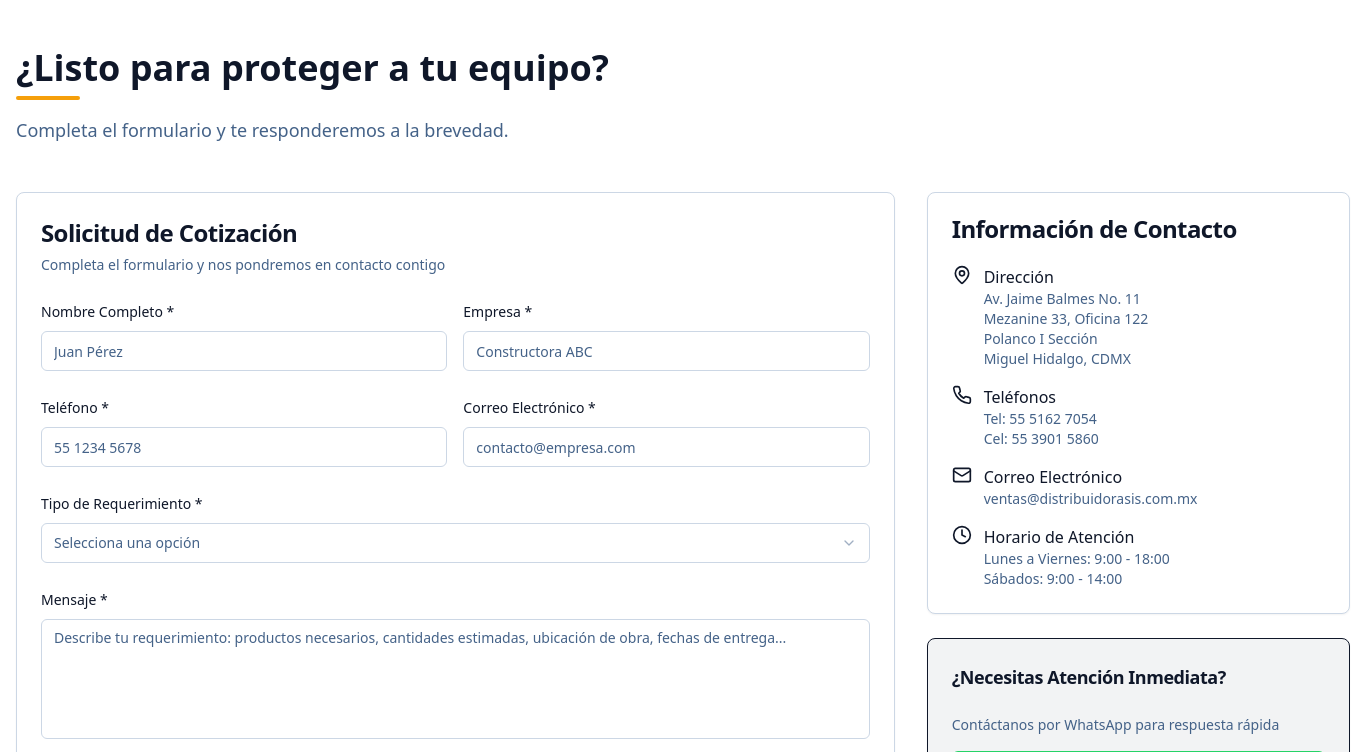
Test: Contacto submit flow (HU-4.1/HU-4.2) › blocks submit and shows validation errors for invalid fields
Step 1. Type "A" into the field labelled "Nombre Completo *" → (244, 351), box [41,331,447,371]
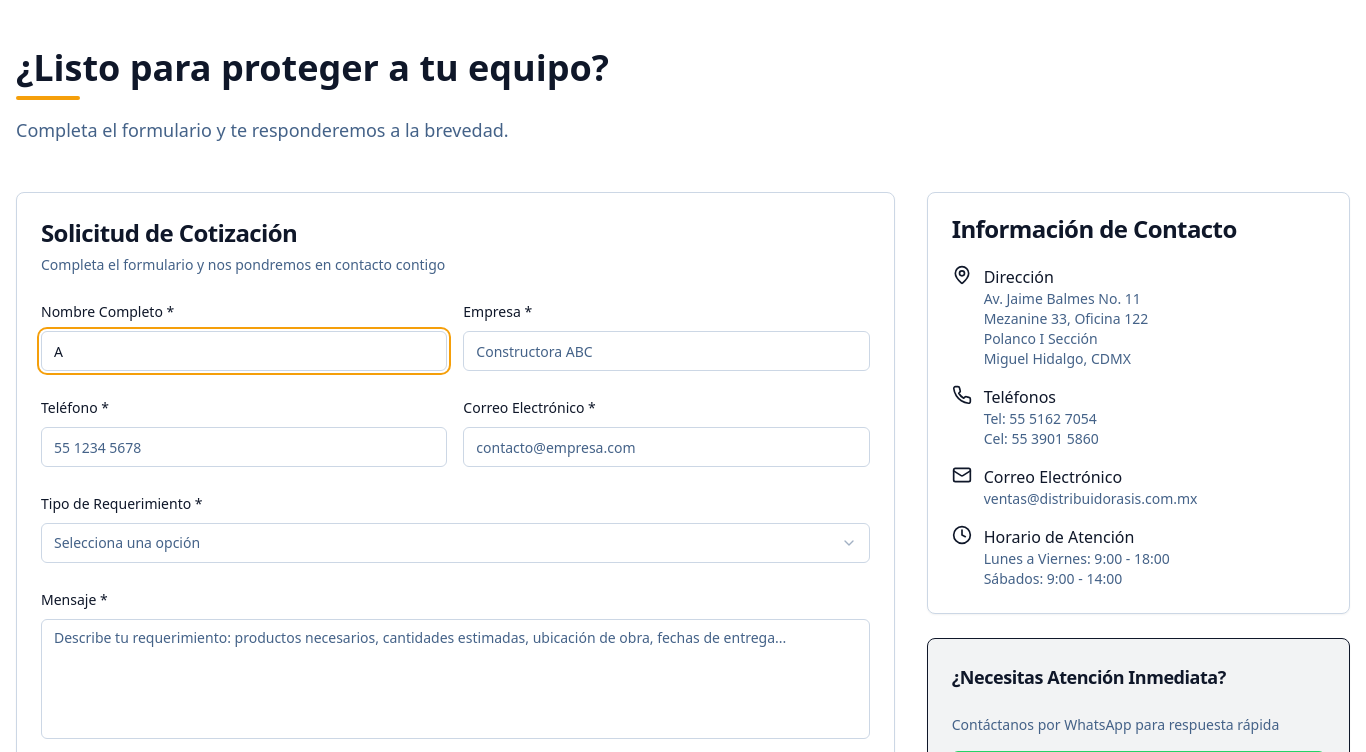
Step 2. Type "A" into the field labelled "Empresa *" → (666, 351), box [463,331,870,371]
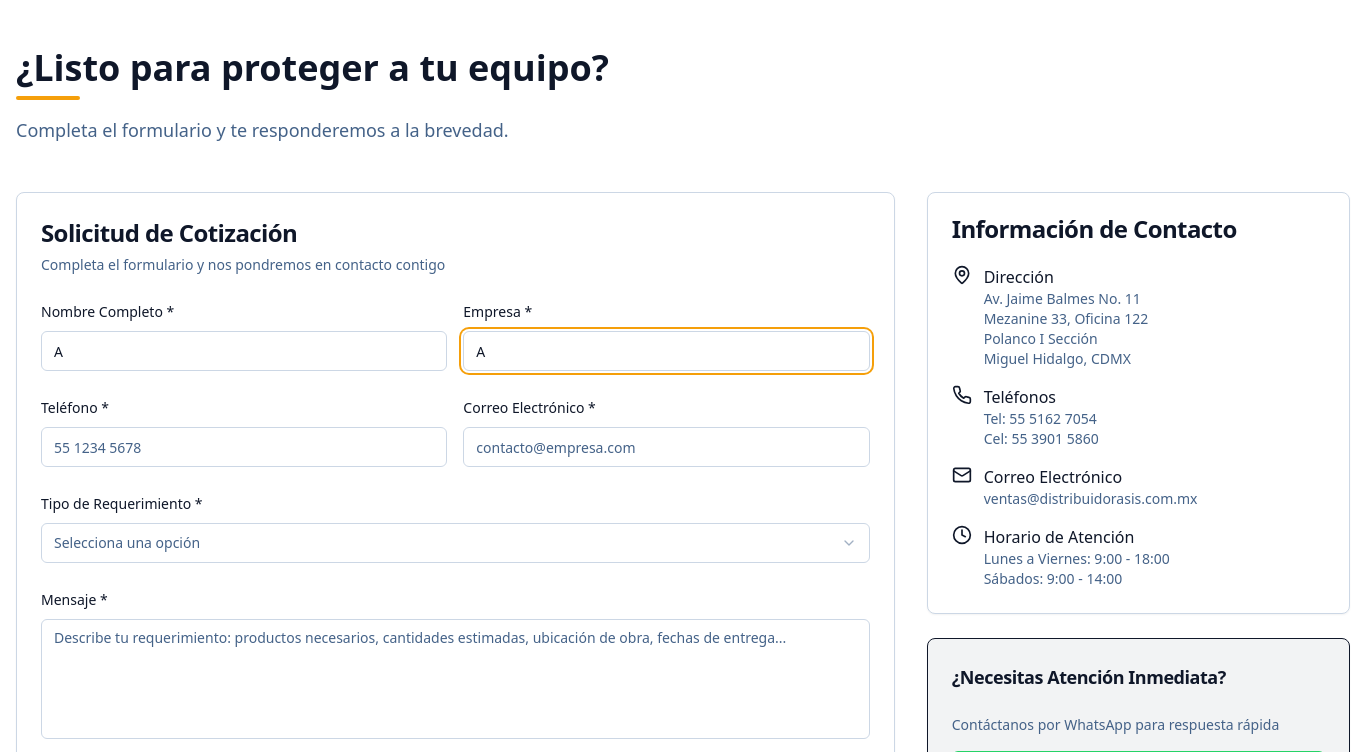
Step 3. Type "123" into the field labelled "Teléfono *" → (244, 447), box [41,427,447,467]
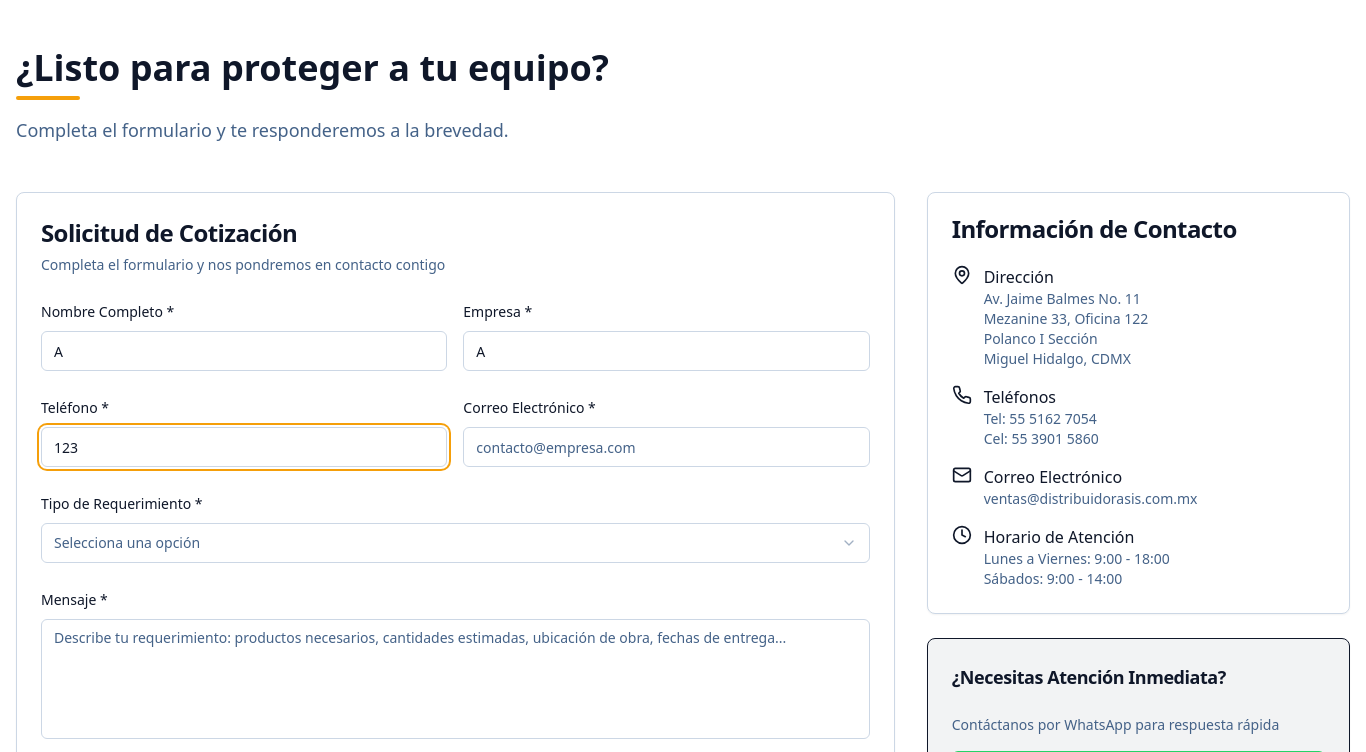
Step 4. Type "juan@empresa.com" into the field labelled "Correo Electrónico *" → (666, 447), box [463,427,870,467]
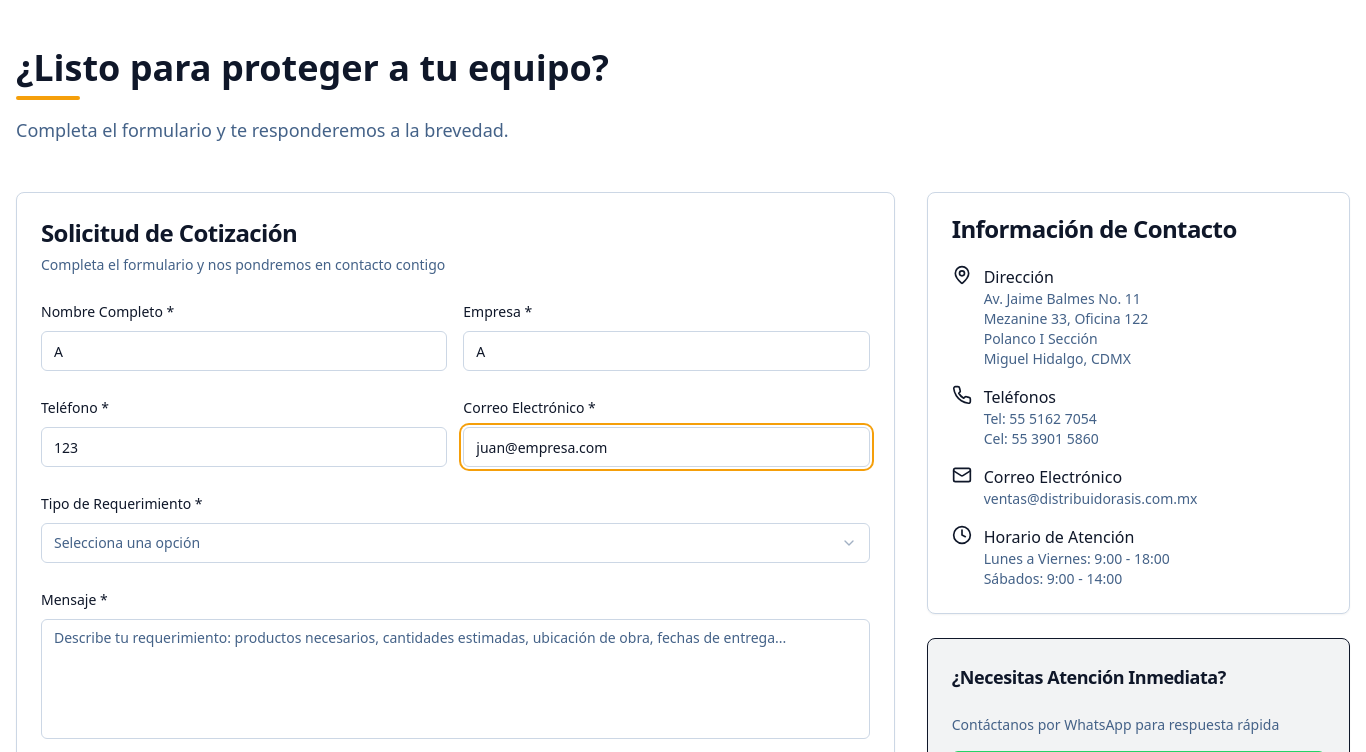
Step 5. Type "corto" into the text box labelled "Mensaje *" → (455, 679), box [41,619,870,739]
(page scrolled)
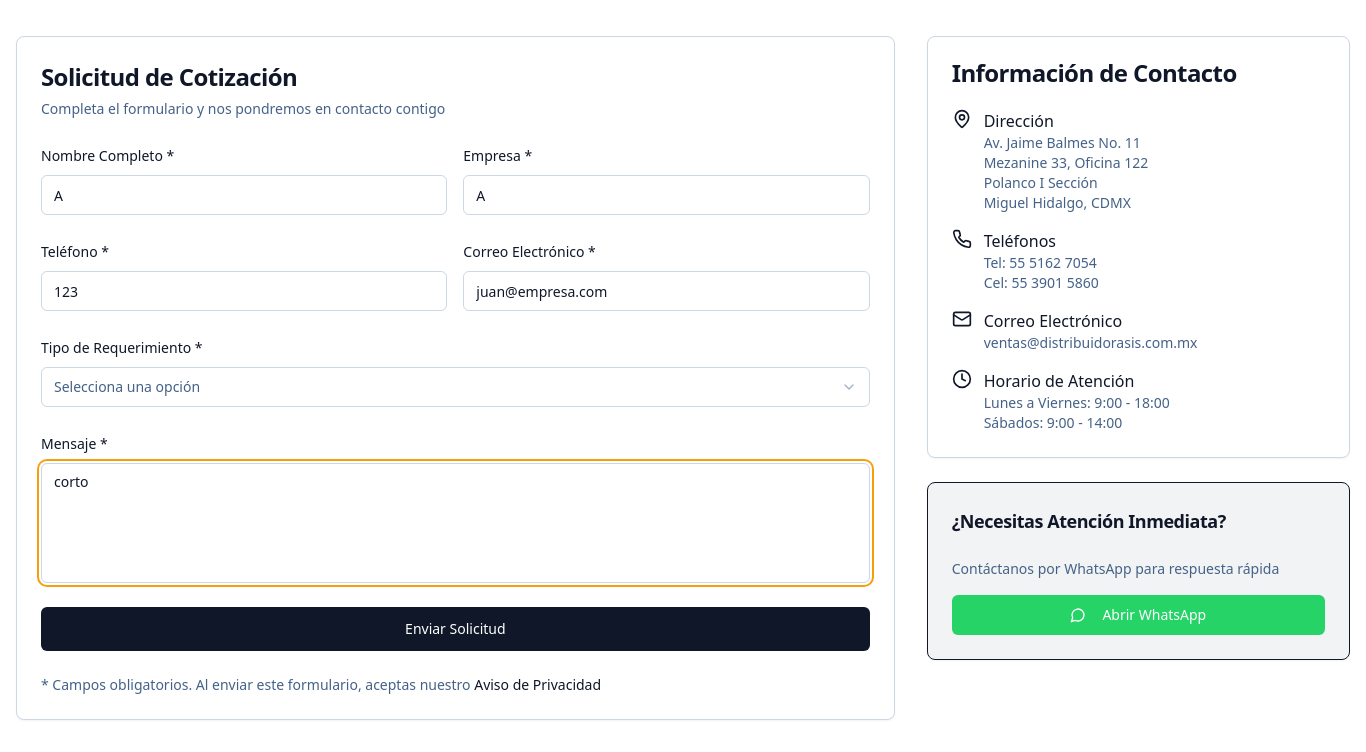
Step 6. Click the button "Enviar Solicitud" → (455, 629), box [41,607,870,651]
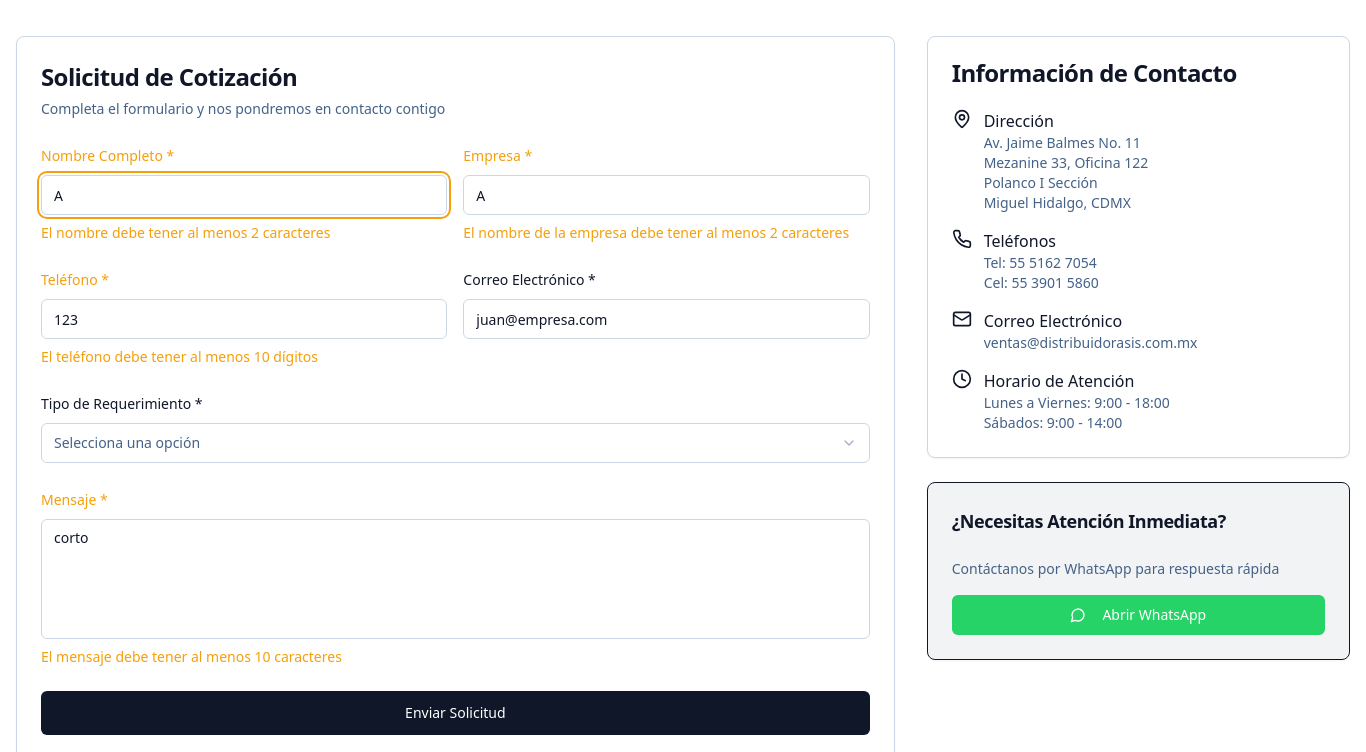
Result: the text "El nombre debe tener al menos 2 caracteres" is shown at [41,223,330,242]
Result: the text "El nombre de la empresa debe tener al menos 2 caracteres" is shown at [463,223,870,243]
Result: the text "El teléfono debe tener al menos 10 dígitos" is shown at [41,347,318,366]
